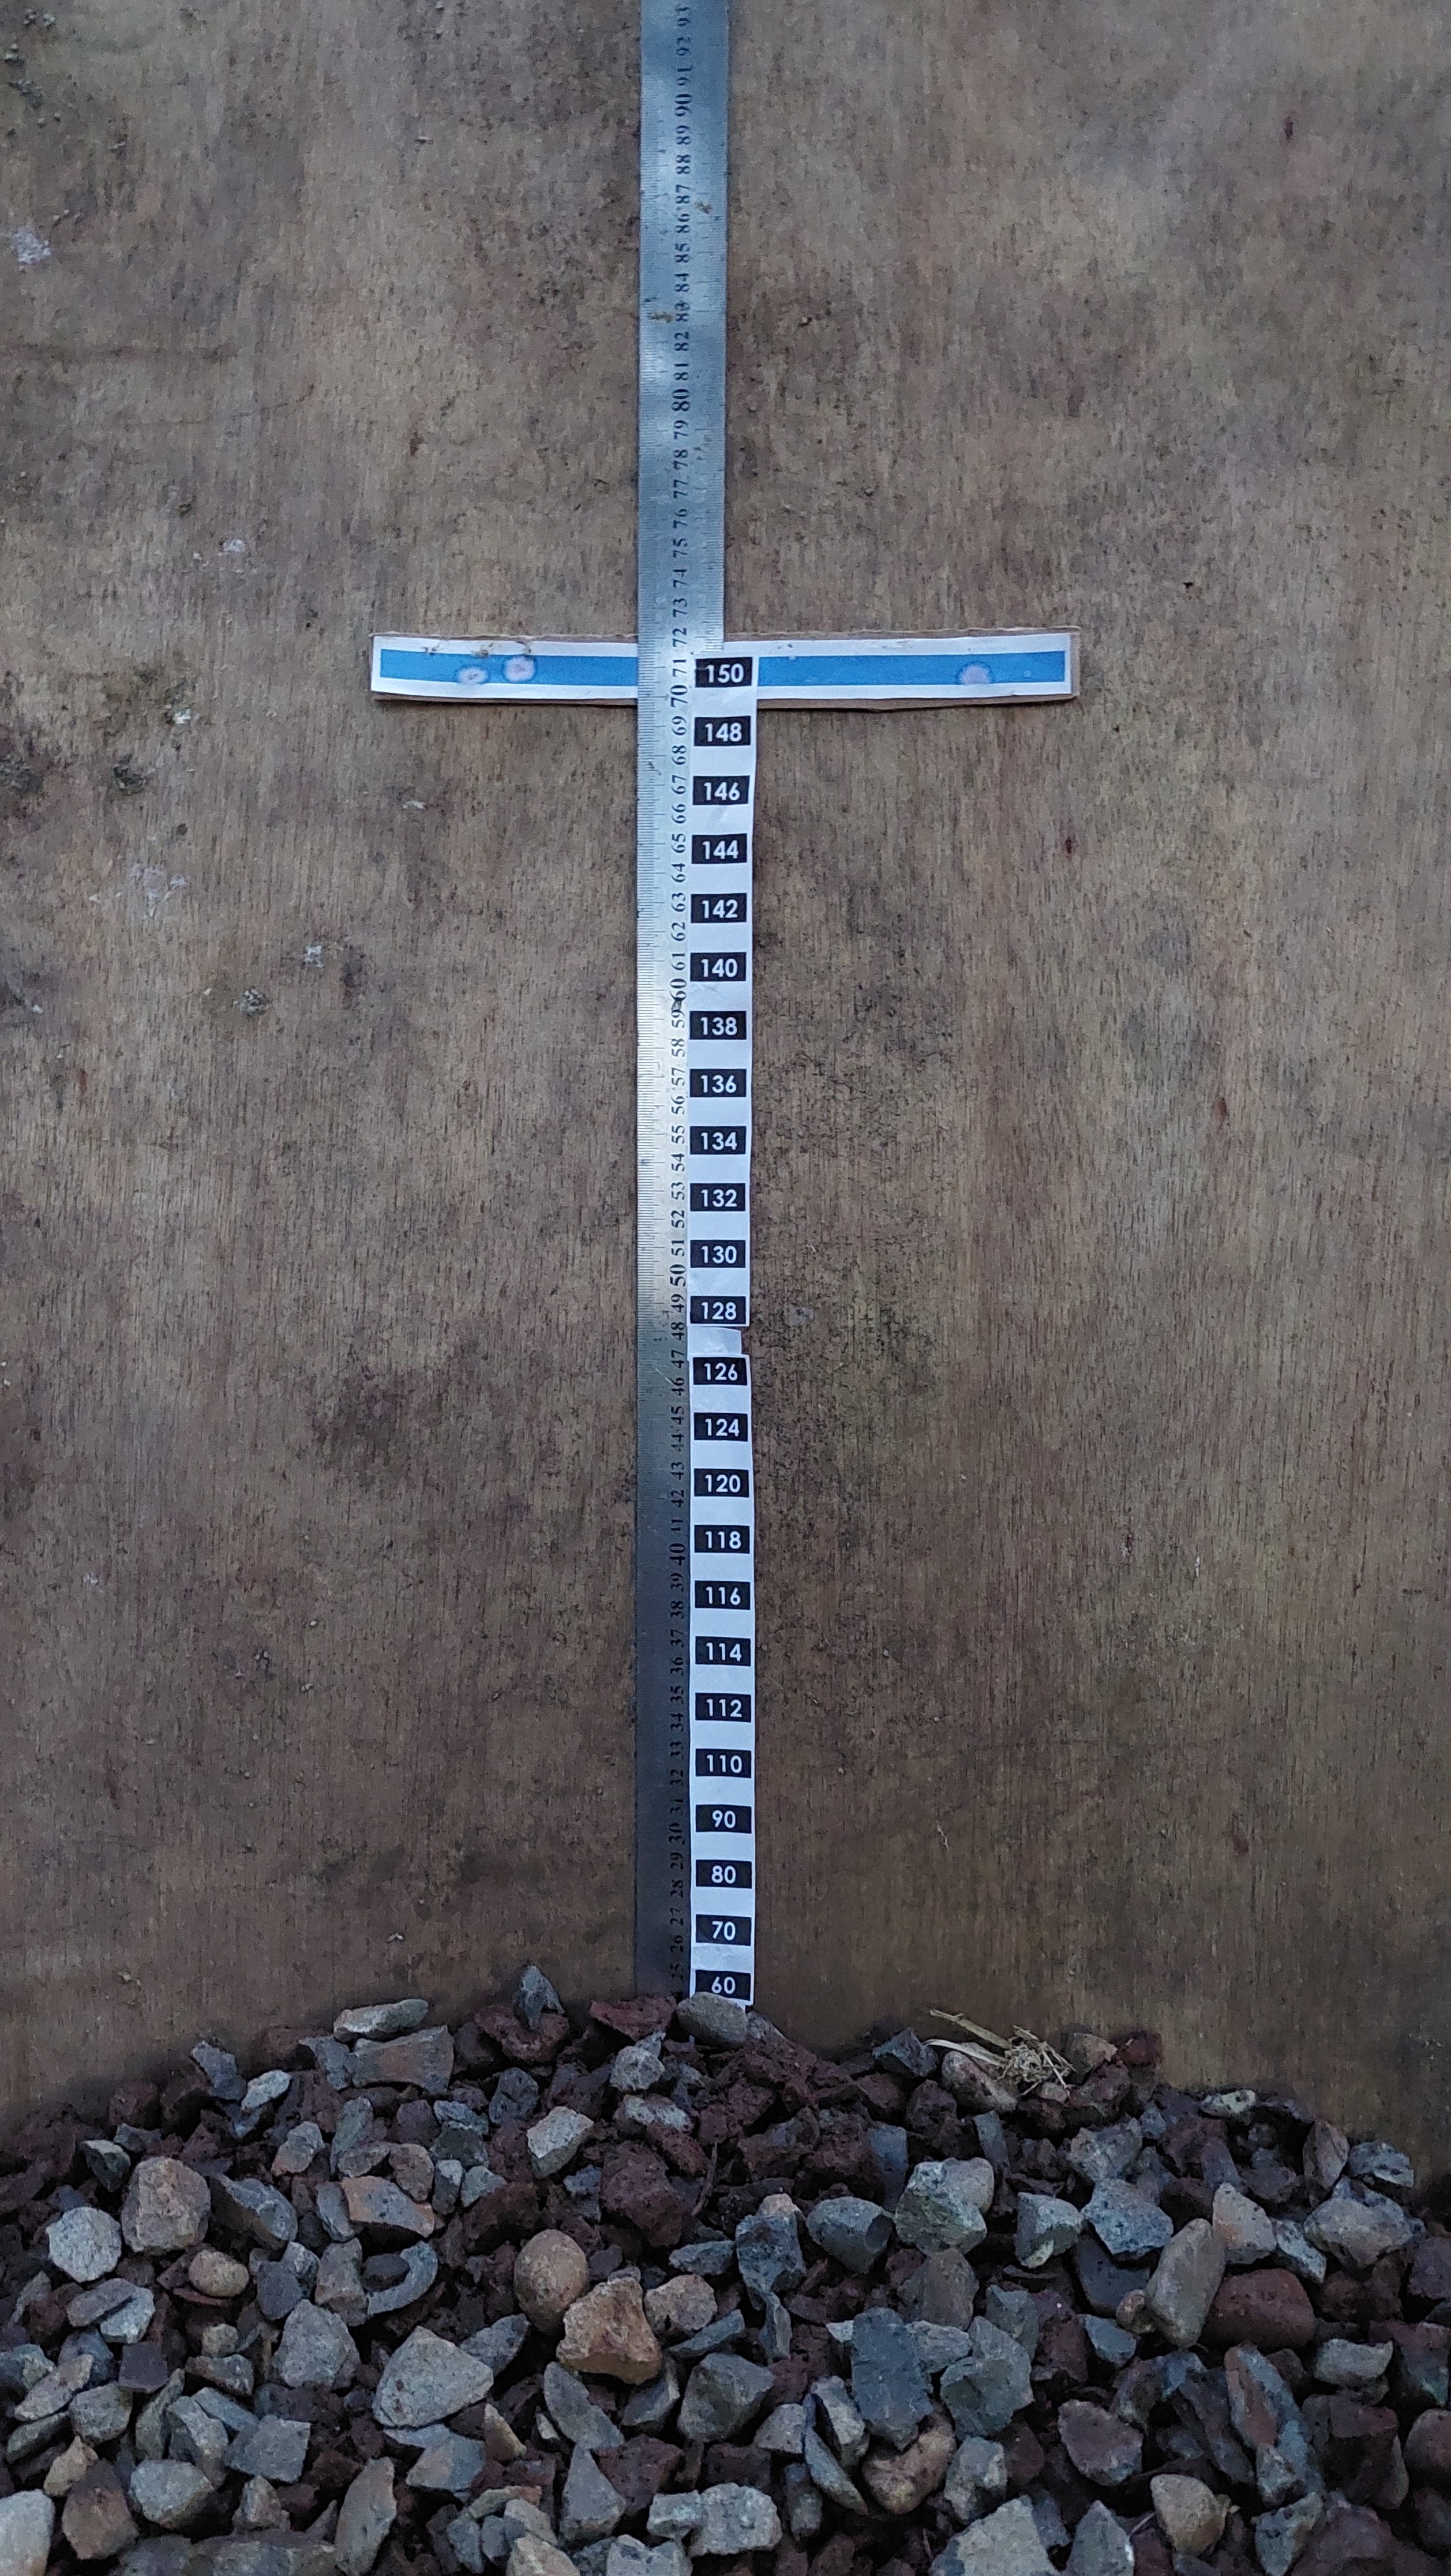kotak_2x1: (692, 1686, 754, 1727), (690, 770, 754, 809), (690, 1463, 752, 1502), (692, 1631, 754, 1670), (692, 1911, 754, 1950), (687, 1007, 750, 1044), (687, 1065, 750, 1102), (692, 653, 754, 690), (688, 890, 750, 927), (688, 948, 750, 985), (692, 1856, 754, 1893), (690, 1353, 750, 1391), (692, 1408, 752, 1445), (692, 1576, 752, 1614), (692, 713, 754, 748), (690, 832, 752, 867), (687, 1122, 749, 1157), (694, 1744, 752, 1782), (687, 1237, 750, 1270), (687, 1178, 747, 1214), (692, 1520, 752, 1555), (694, 1801, 754, 1836), (687, 1293, 749, 1325)
mal_biru_150: (375, 639, 1069, 690)
